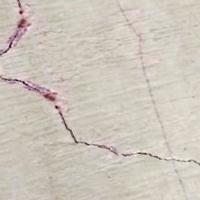crack: (2, 0, 143, 167)
